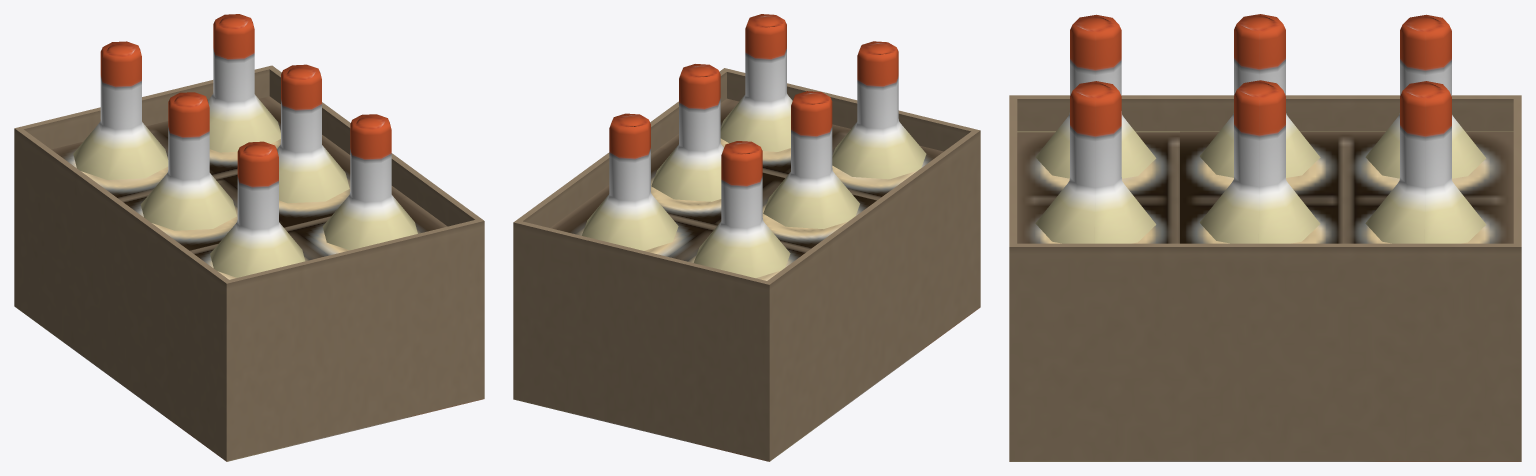
File: BoxofRiceVinegar_ground.fbx
The picture shows the model from 3 angles, left to right: view 1: azimuth 30°, elevation 25°; view 2: azimuth 150°, elevation 25°; view 3: azimuth 270°, elevation 25°; orthographic projection. The views are drawn at different scales.
Visible parts, largest first — view 1: RiceVinegar.004; view 2: RiceVinegar.004; view 3: RiceVinegar.004.
Boxes of the visible parts, bbox=[...] form: RiceVinegar.004: bbox=[14, 14, 484, 461]; RiceVinegar.004: bbox=[513, 14, 980, 461]; RiceVinegar.004: bbox=[1009, 14, 1521, 461].
Bounding box in the file's own units: 3.81 × 3.81 × 5.44.
